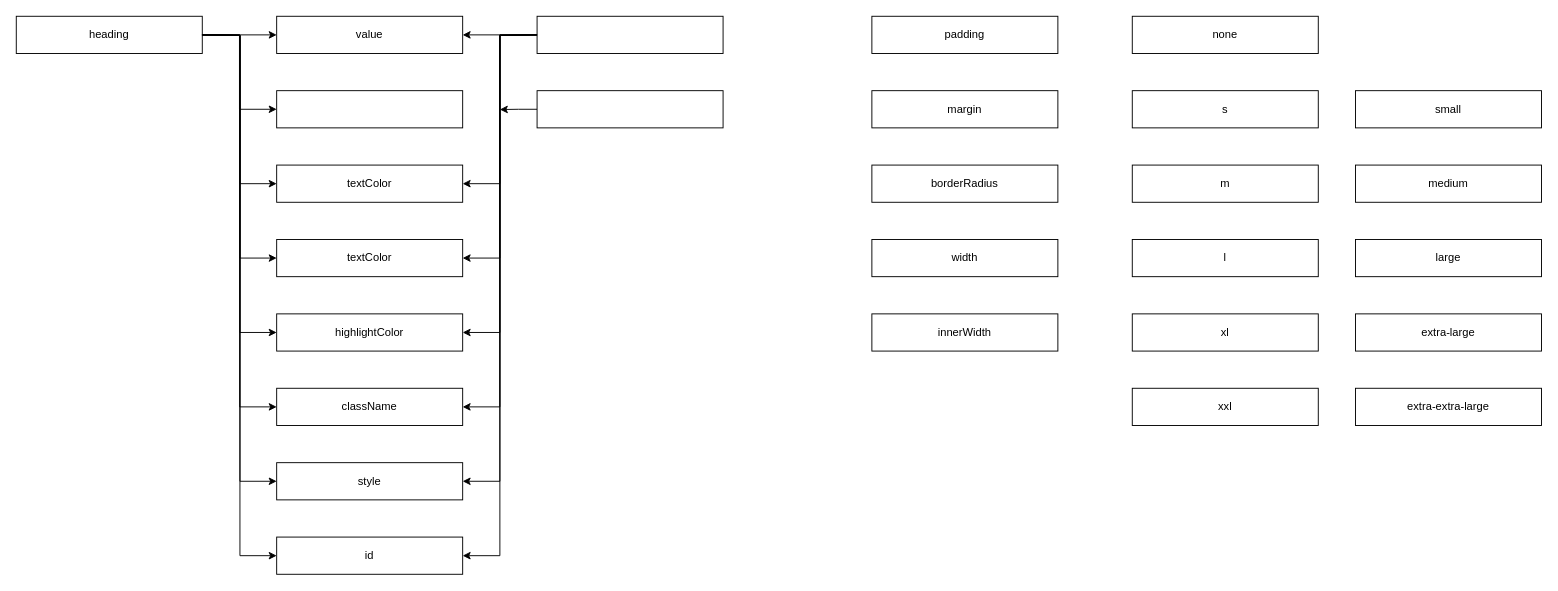
Some shapes in this 1558 by 591 pixel diagram are drawn without their labels. The box of each missing label's shape, as (x1, y1, x2, y2) in pixels:
level: (276, 90, 463, 128)
overline: (536, 15, 723, 53)
subline: (536, 90, 723, 128)
